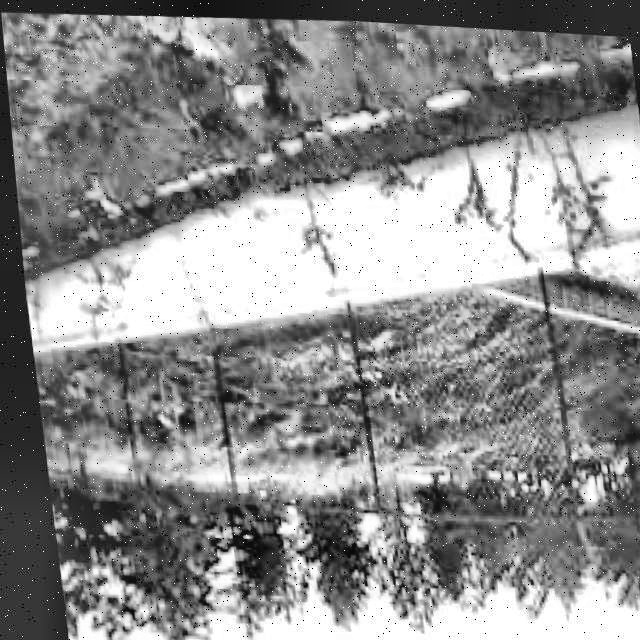Fire: (134, 10, 239, 63)
